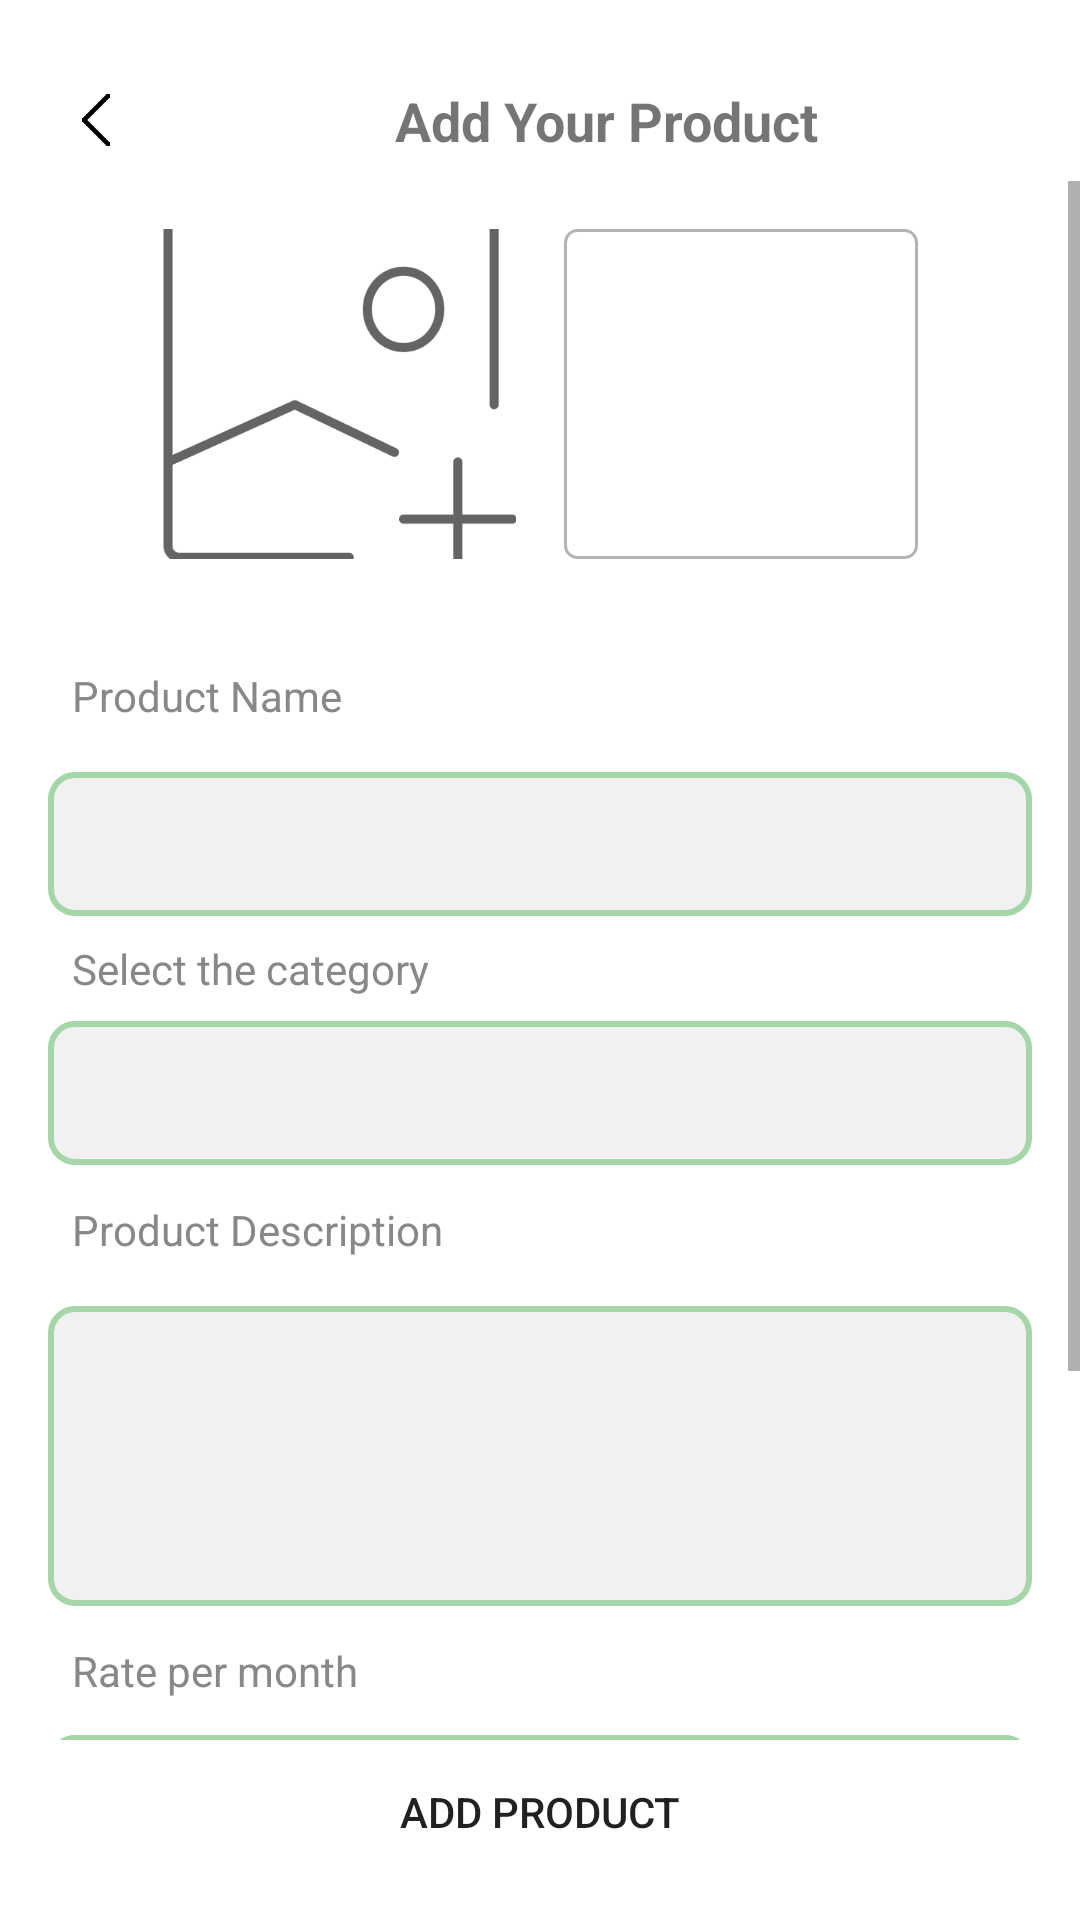

Icons on this 1080 × 1920 Android screen, each with the point to tap as (x,y):
Back: (96,120)
